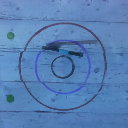Axe Tip: (47, 45, 60, 48)
